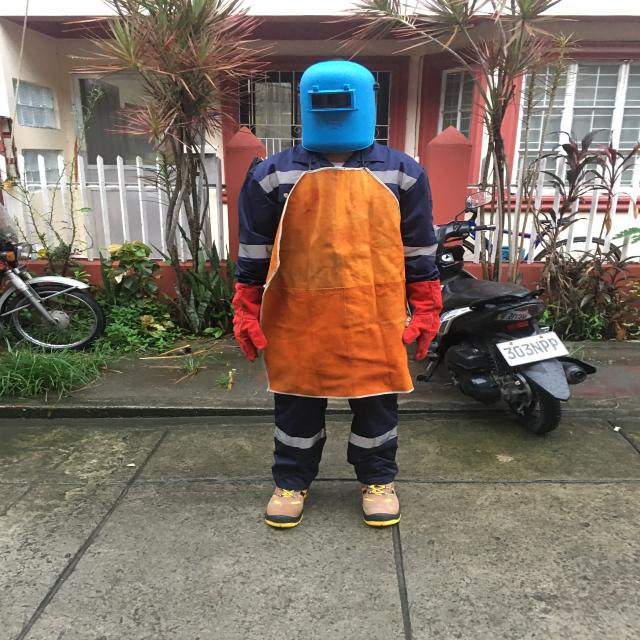with_helmet: (265, 53, 399, 158)
